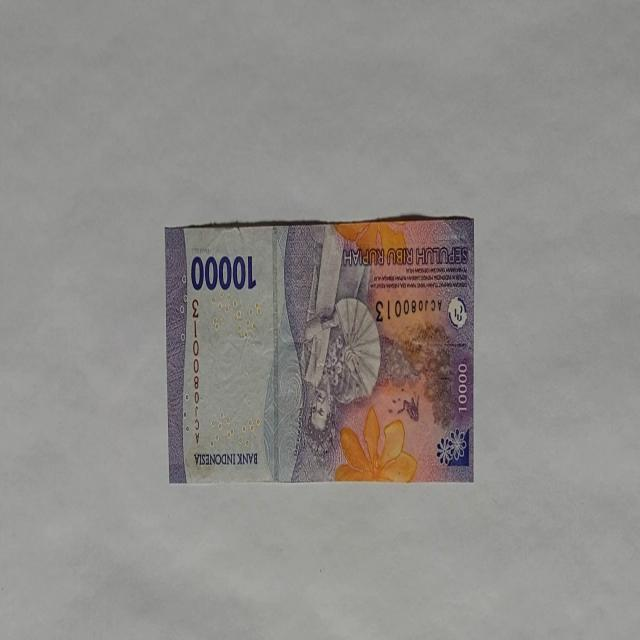sepuluh ribu rupiah: (164, 215, 475, 485), (189, 252, 257, 292)
